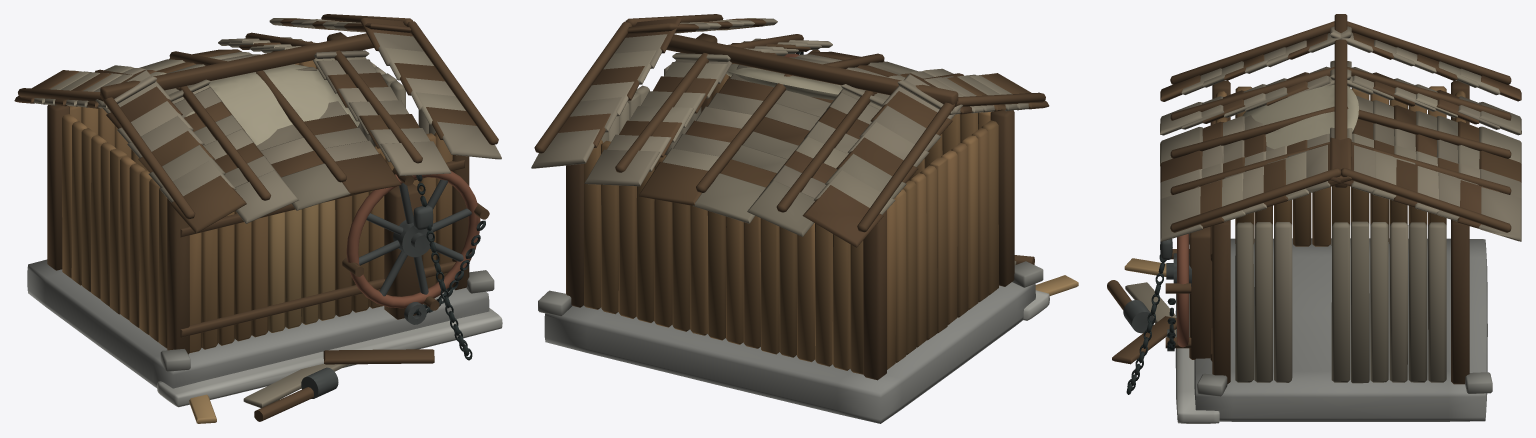
Rendered from gate_wheelhouse_b.glb.
The picture shows the model from 3 angles, left to right: view 1: azimuth 30°, elevation 25°; view 2: azimuth 150°, elevation 25°; view 3: azimuth 270°, elevation 25°; orthographic projection. The views are drawn at different scales.
Visible parts, largest first — view 1: Surface; view 2: Surface; view 3: Surface.
Part boxes in pixels (x1,y1,x2,y2): Surface: (14, 14, 502, 423); Surface: (531, 14, 1078, 423); Surface: (1107, 14, 1521, 423).
Size of the model in its own units: 4.2 by 3.15 by 4.52.
